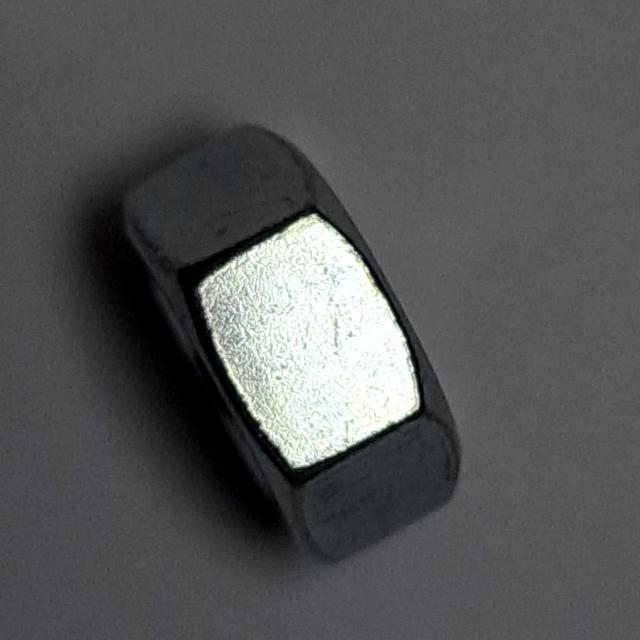Side_Excellent: (104, 104, 471, 578)
